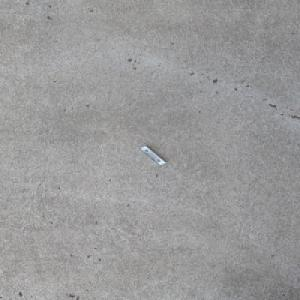ClampPart: (138, 145, 166, 165)
